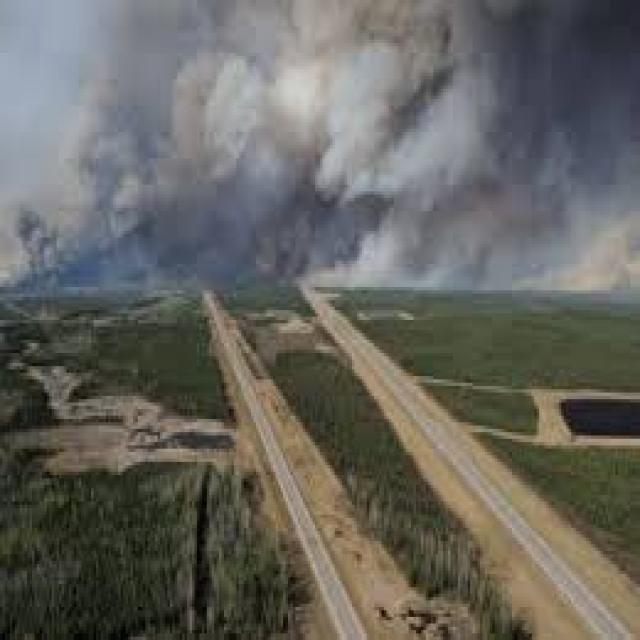Smoke: (0, 0, 351, 316), (352, 0, 640, 313)
